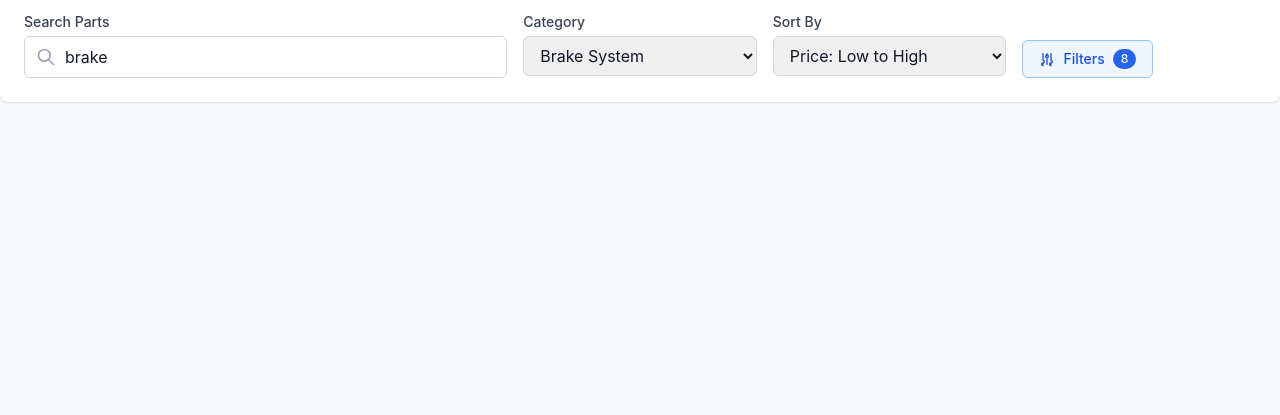
Scenario: PartsFilters › Clear Filters › renders clear all button
The width and height of the screenshot is (1280, 415).
Click the button: [1088, 59] box 1022,40 -> 1153,78
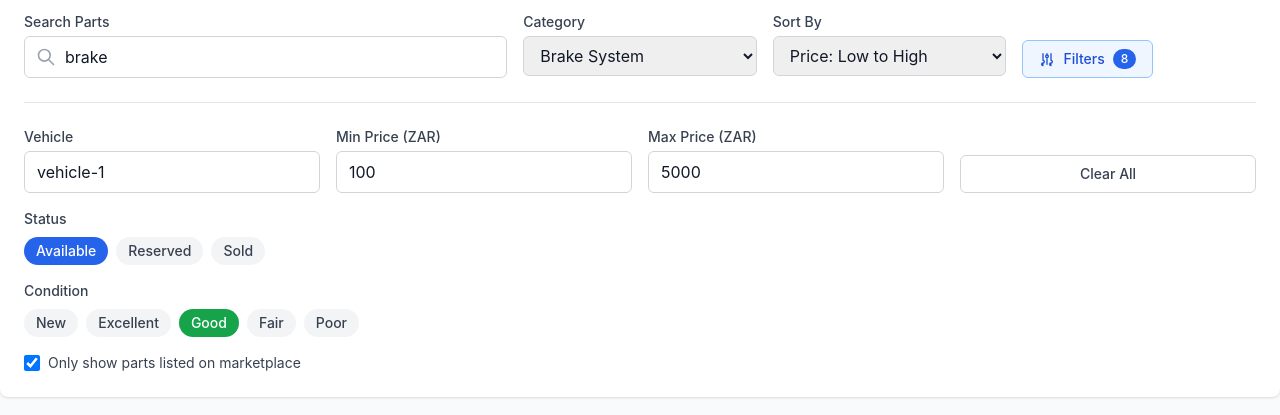
Check: the button "Clear All" is shown, box 960,155 -> 1256,193
